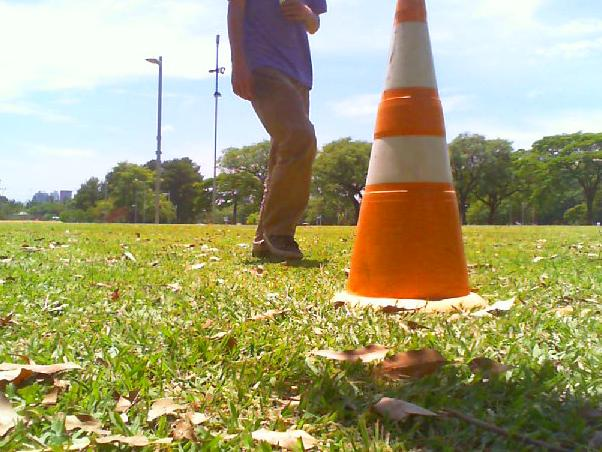0 cone: (340, 0, 472, 307)
